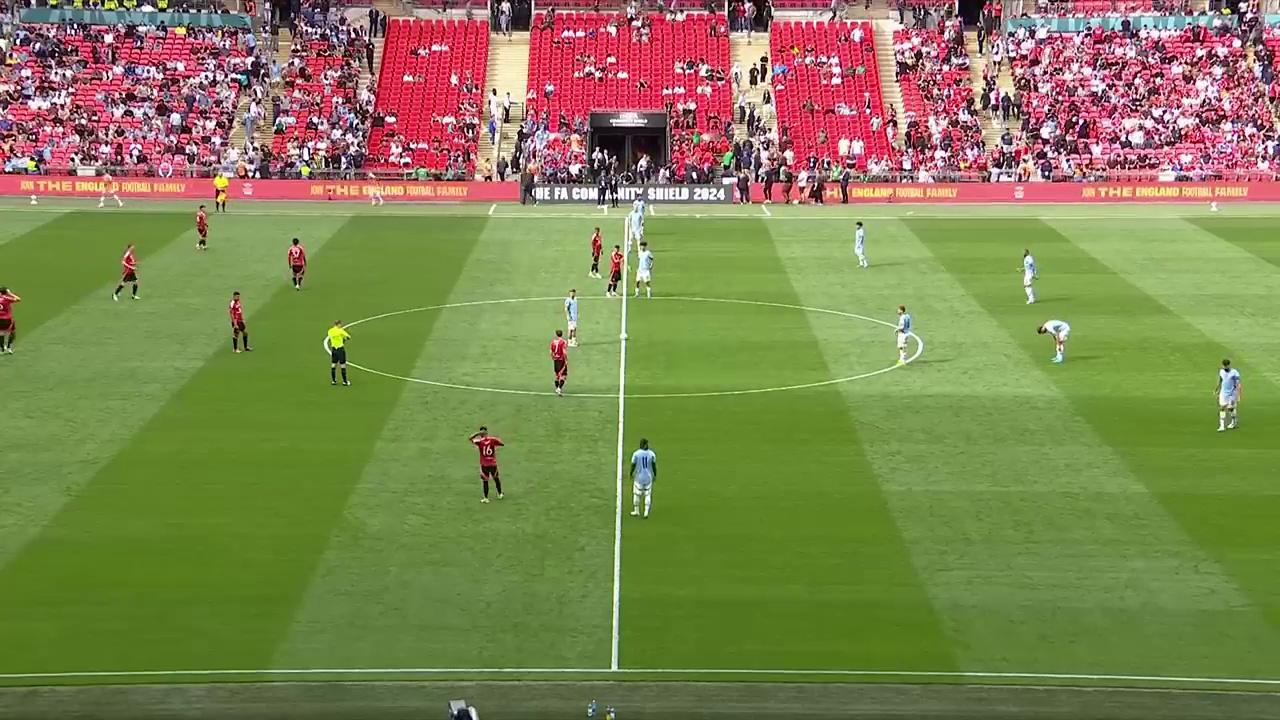ball: (619, 331, 631, 343)
player: (469, 424, 504, 501), (628, 437, 657, 519), (1215, 358, 1242, 431), (1037, 315, 1071, 363), (894, 304, 920, 365), (228, 290, 252, 354), (113, 249, 139, 301), (549, 330, 569, 396), (633, 243, 654, 298), (0, 290, 18, 352), (1019, 248, 1038, 304), (287, 237, 306, 289), (563, 288, 579, 347), (606, 246, 623, 297), (625, 204, 641, 253), (589, 226, 604, 276), (195, 205, 209, 251), (854, 221, 867, 267)
referee: (325, 319, 351, 387), (214, 171, 229, 213)
